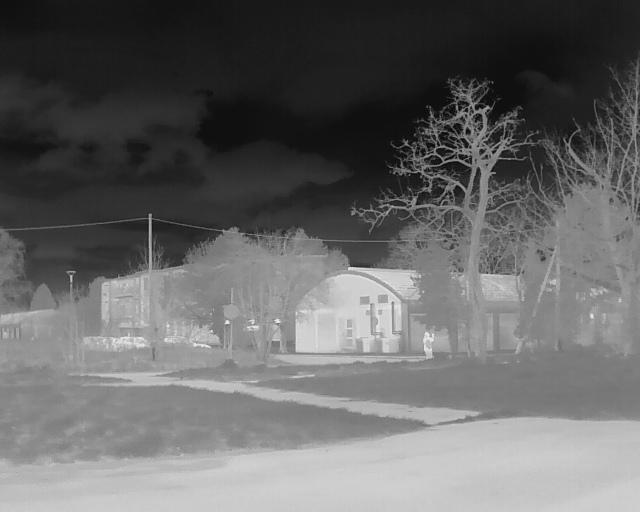drone: (204, 304, 286, 348)
